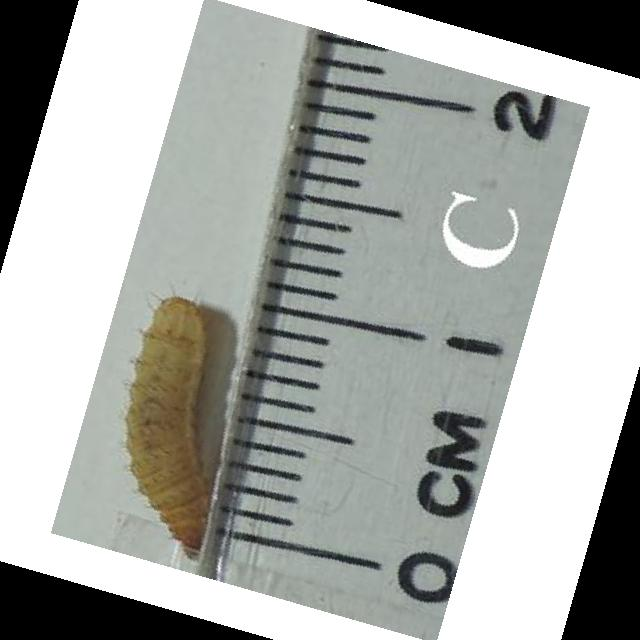Maggot: (123, 294, 214, 558)
